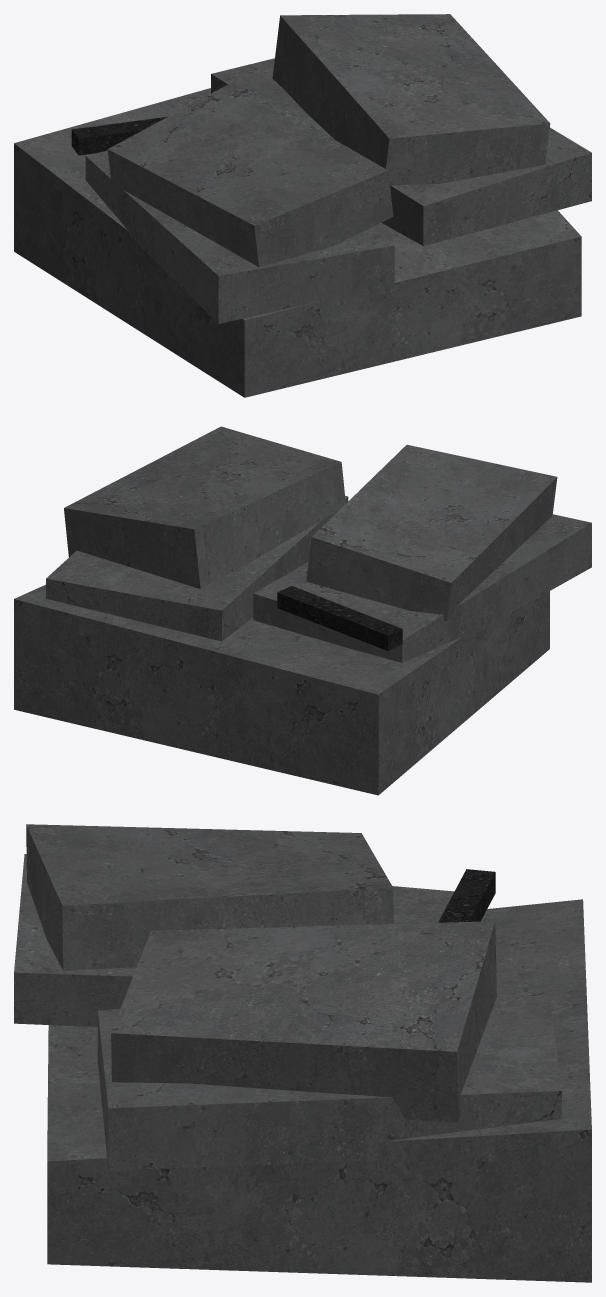
File: city-rubble.glb
3 views of the same model, one above another, from view 1: azimuth 30°, elevation 25°; view 2: azimuth 150°, elevation 25°; view 3: azimuth 270°, elevation 25° (orthographic). The views are drawn at different scales.
Parts seen in each view (by area): view 1: city-rubble-concrete, city-rubble-steel; view 2: city-rubble-concrete, city-rubble-steel; view 3: city-rubble-concrete, city-rubble-steel.
Part boxes in pixels (bbox=[...]): city-rubble-concrete: bbox=[14, 14, 591, 397]; city-rubble-steel: bbox=[71, 116, 167, 155]; city-rubble-concrete: bbox=[14, 426, 591, 795]; city-rubble-steel: bbox=[277, 586, 402, 650]; city-rubble-concrete: bbox=[14, 824, 591, 1282]; city-rubble-steel: bbox=[438, 869, 495, 922].
Size of the model in its own units: 3.04 by 1.46 by 2.91.
2 materials, 2 textured.
